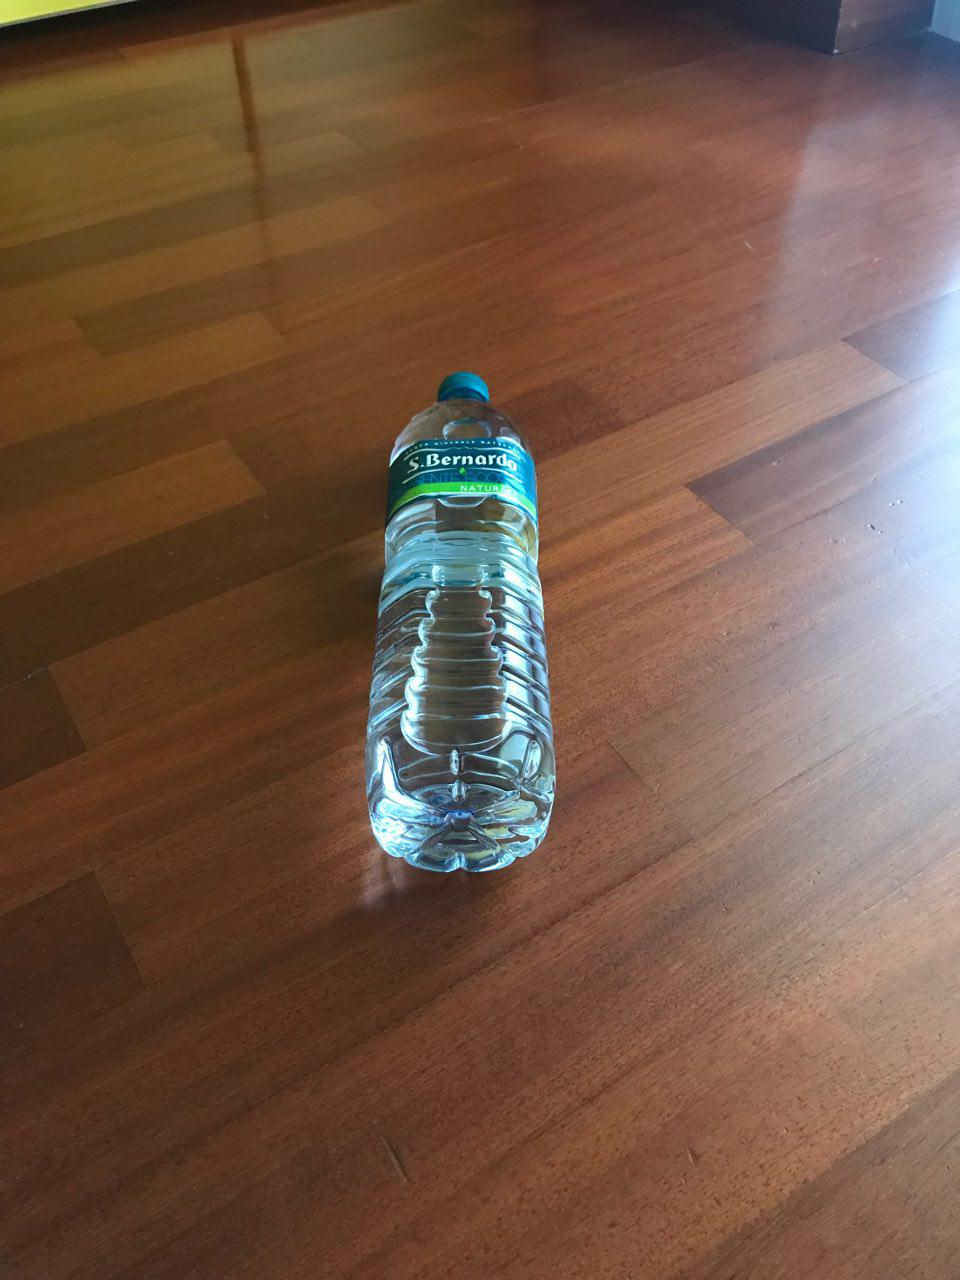san_bernardo: (362, 369, 560, 875)
